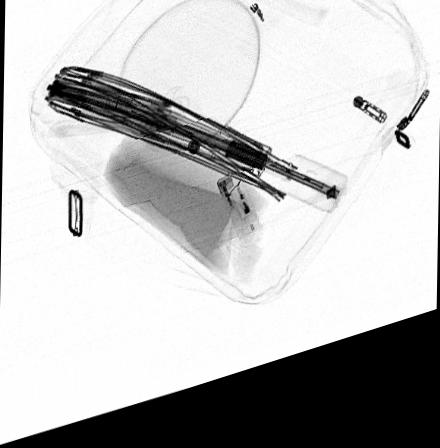Lighter: (215, 181, 260, 254)
